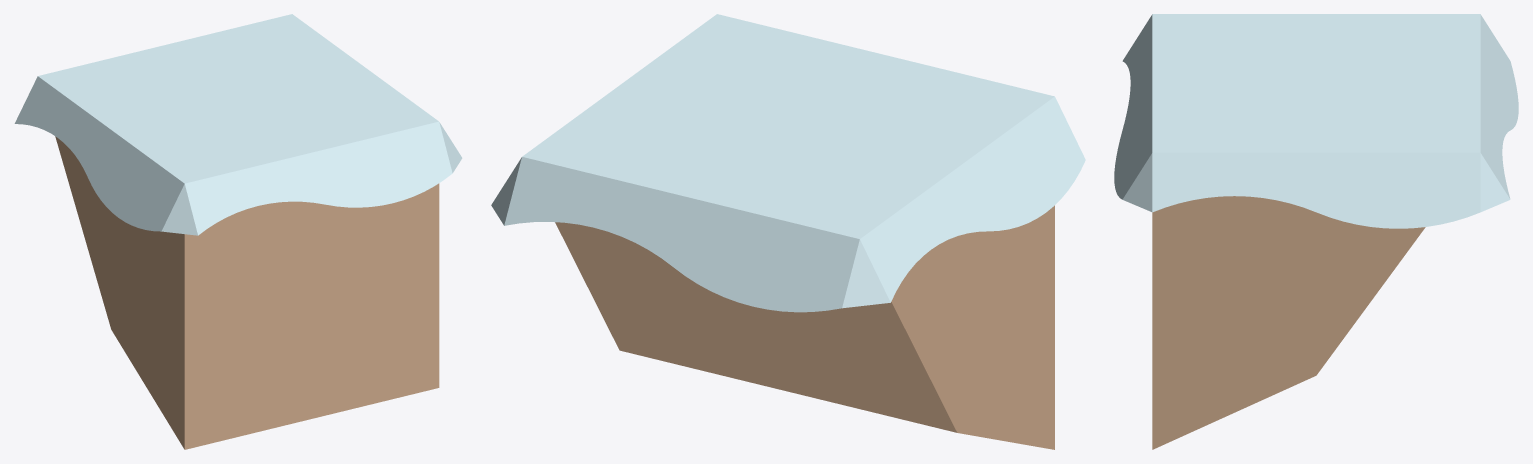
The model's file is blockSnowCliff.glb.
3 views of the same model, side by side, from view 1: azimuth 30°, elevation 25°; view 2: azimuth 150°, elevation 25°; view 3: azimuth 270°, elevation 25° (orthographic). The views are drawn at different scales.
Parts seen in each view (by area): view 1: blockSnowCliff; view 2: blockSnowCliff; view 3: blockSnowCliff.
Boxes of the visible parts, box(x1,y1,x2,y2) form: blockSnowCliff: box(14, 14, 462, 449); blockSnowCliff: box(491, 14, 1085, 449); blockSnowCliff: box(1114, 14, 1518, 449).
Size of the model in its own units: 1.23 by 1 by 1.23.
